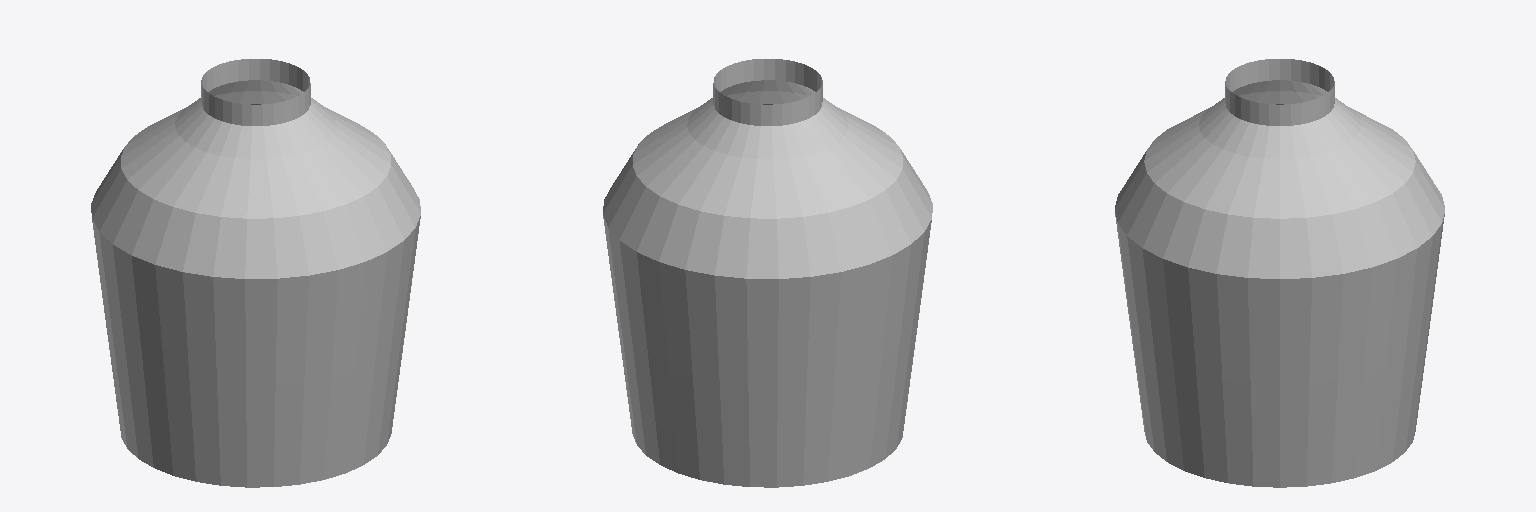
The model's file is pitcher_one.obj.
The picture shows the model from 3 angles: view 1: azimuth 30°, elevation 25°; view 2: azimuth 150°, elevation 25°; view 3: azimuth 270°, elevation 25°; orthographic projection.
Parts seen in each view (by area): view 1: Circle; view 2: Circle; view 3: Circle.
Part boxes in pixels (x1,y1,x2,y2): Circle: (91,59,420,487); Circle: (603,59,932,487); Circle: (1115,59,1444,487).
Bounding box in the file's own units: 2.23 × 2.6 × 2.23.